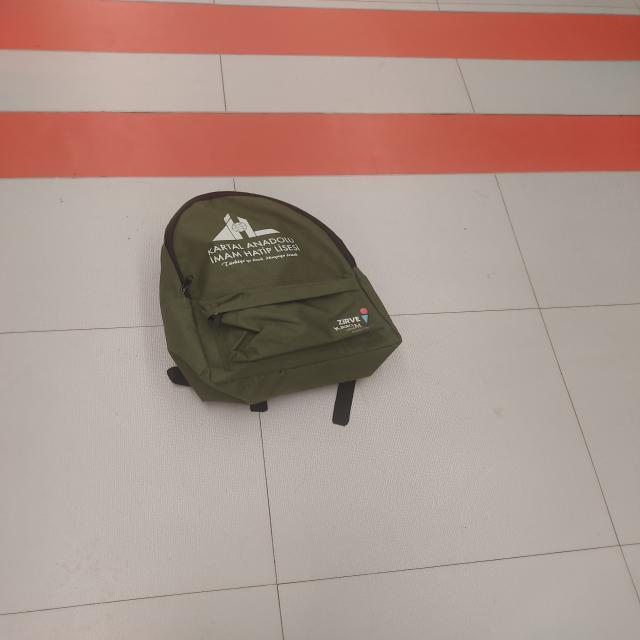bag: (146, 187, 412, 412)
